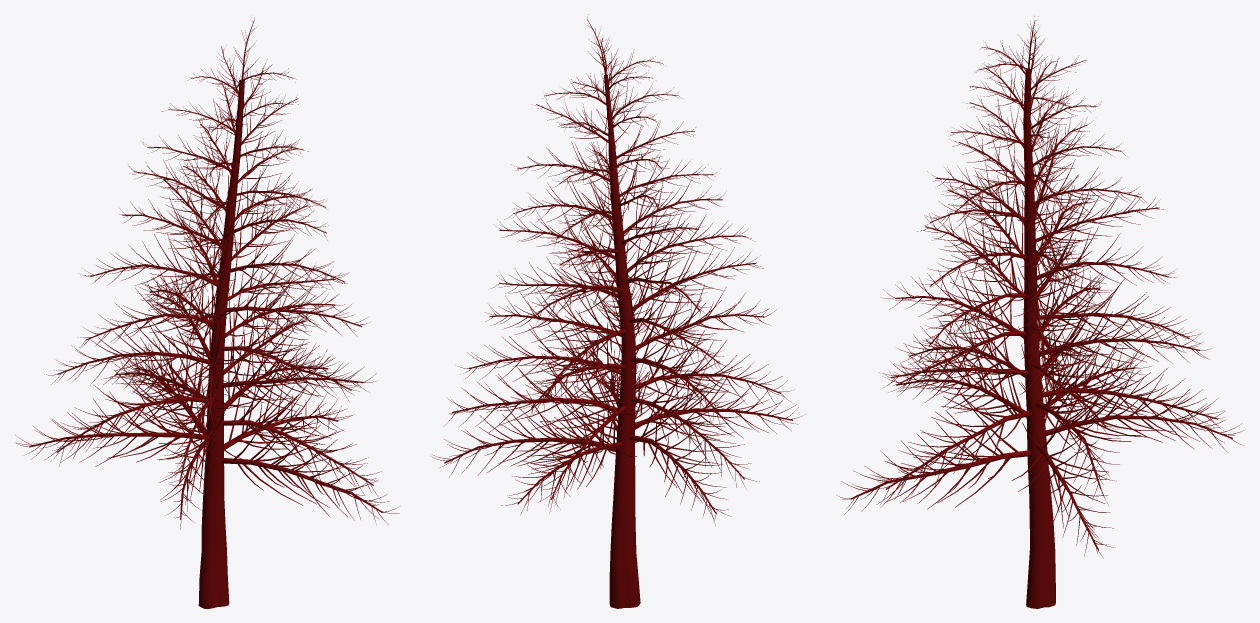
File: Tree3.FBX
3 views of the same model, side by side, from view 1: azimuth 30°, elevation 25°; view 2: azimuth 150°, elevation 25°; view 3: azimuth 270°, elevation 25° (orthographic). The views are drawn at different scales.
Parts seen in each view (by area): view 1: Foliage001; view 2: Foliage001; view 3: Foliage001.
Part boxes in pixels (bbox=[...]): Foliage001: bbox=[15, 18, 399, 608]; Foliage001: bbox=[430, 14, 802, 608]; Foliage001: bbox=[836, 16, 1245, 608].
Bounding box in the file's own units: 398 × 422 × 691.
